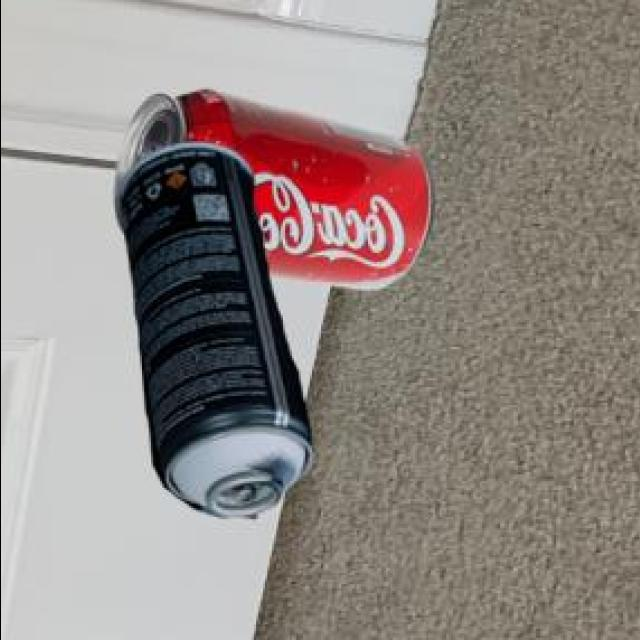logam: (115, 140, 308, 514), (111, 86, 431, 285)
